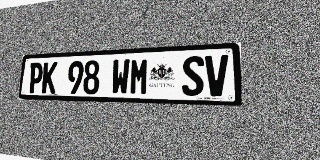8: (82, 60, 101, 94)
9: (67, 61, 84, 94)
K: (41, 62, 58, 94)
M: (129, 58, 149, 95)
P: (28, 62, 44, 93)
S: (182, 56, 204, 96)
V: (205, 55, 229, 96)
W: (111, 59, 130, 95)
